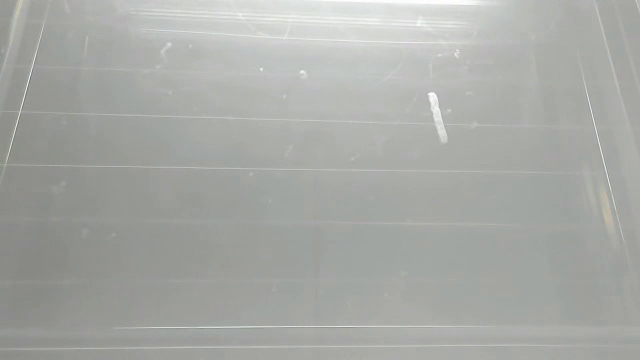alpha: (423, 86, 452, 148)
